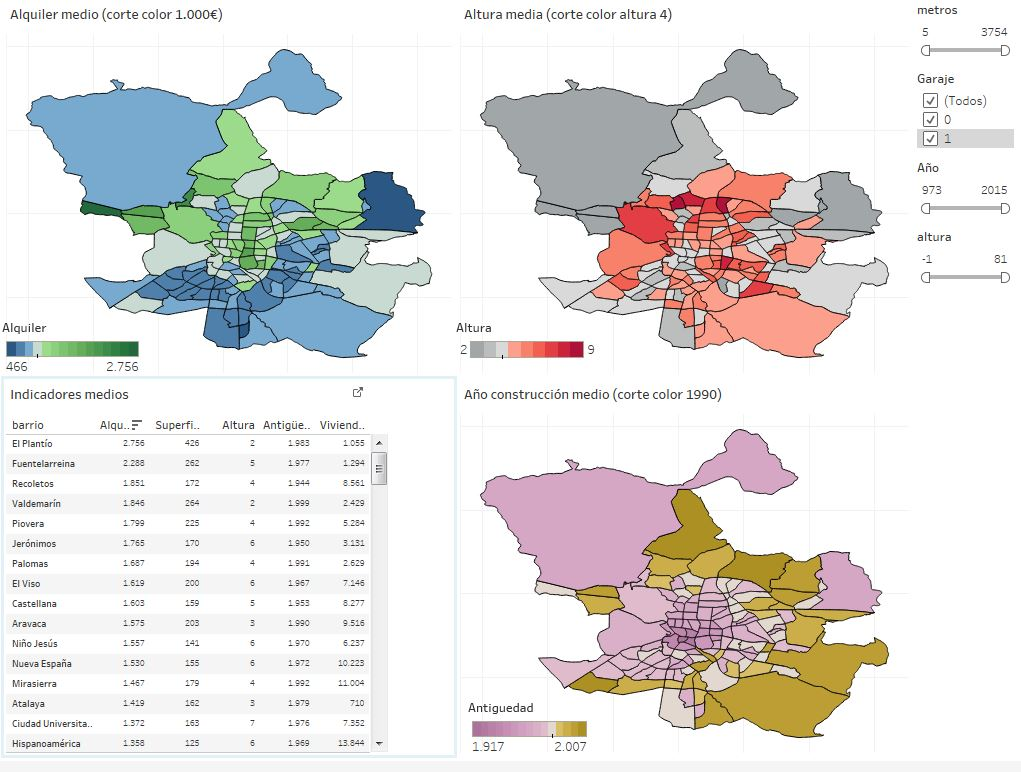

The page's visual inventory and layout, read from the dashboard file:
{"tool":"tableau","page":{"name":"All maps","canvas":[1024,768],"ordinal":0},"visuals":[{"type":"worksheet","title":"Mapa€","mark":"Polygon","rows":["y"],"cols":["x"],"box":[0,0,457.5,384]},{"type":"worksheet","title":"Mapa altura","mark":"Polygon","rows":["y"],"cols":["x"],"box":[457.5,0,457.5,384]},{"type":"filter","title":"Mapa€","param":"[federated.01pjjt21iiljom1fuv0mh17719g8].[none:metros:qk]","box":[915,0,109,73]},{"type":"filter","title":"Mapa€","param":"[federated.01pjjt21iiljom1fuv0mh17719g8].[none:Garaje:ok]","box":[915,73,109,89]},{"type":"filter","title":"Mapa€","param":"[federated.01pjjt21iiljom1fuv0mh17719g8].[none:anio_max:qk]","box":[915,162,109,69]},{"type":"filter","title":"Mapa€","param":"[federated.01pjjt21iiljom1fuv0mh17719g8].[none:altura_num:qk]","box":[915,231,109,69]},{"type":"legend","title":"Mapa€","param":"[federated.01pjjt21iiljom1fuv0mh17719g8].[usr:Calculation_132293307281526784:qk]","box":[4,326,141,52]},{"type":"legend","title":"Mapa altura","param":"[federated.01pjjt21iiljom1fuv0mh17719g8].[usr:Precio medio (copia):qk]","box":[458,326,143,56]},{"type":"worksheet","title":"€Barrio","mark":"Automatic","rows":["barrio"],"box":[0,384,457.5,384]},{"type":"worksheet","title":"Mapa antiguedad","mark":"Polygon","rows":["y"],"cols":["x"],"box":[457.5,384,457.5,384]},{"type":"legend","title":"Mapa antiguedad","param":"[federated.01pjjt21iiljom1fuv0mh17719g8].[usr:Altura media (copia):qk]","box":[470,706,123,61]}]}

Visuals, with their boxes in screenshot pixels (x1, y1, x2, y2), scaled from the page's 1024x768 canvas onto the 1021x772 screenshot:
"Mapa€" worksheet (Polygon marks): detection(0, 0, 456, 386)
"Mapa altura" worksheet (Polygon marks): detection(456, 0, 912, 386)
"Mapa€" filter: detection(912, 0, 1020, 73)
"Mapa€" filter: detection(912, 73, 1020, 163)
"Mapa€" filter: detection(912, 163, 1020, 232)
"Mapa€" filter: detection(912, 232, 1020, 302)
"Mapa€" legend: detection(4, 328, 145, 380)
"Mapa altura" legend: detection(457, 328, 599, 384)
"€Barrio" worksheet: detection(0, 386, 456, 771)
"Mapa antiguedad" worksheet (Polygon marks): detection(456, 386, 912, 771)
"Mapa antiguedad" legend: detection(469, 710, 591, 771)
